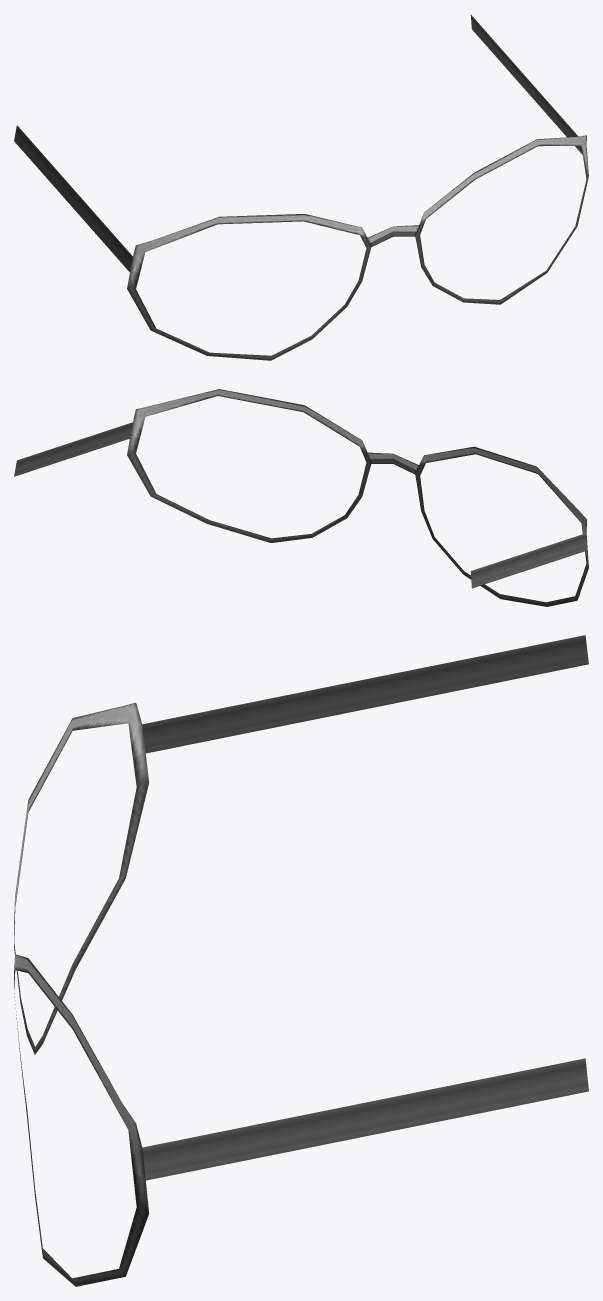
The model's file is acc_face0016.fbx.
3 renders of one model, top to bottom at view 1: azimuth 30°, elevation 25°; view 2: azimuth 150°, elevation 25°; view 3: azimuth 270°, elevation 25°, orthographic. The views are drawn at different scales.
Visible parts, largest first — view 1: acc_face_m; view 2: acc_face_m; view 3: acc_face_m.
Part boxes in pixels (<box>): acc_face_m: <box>14,14,588,360</box>; acc_face_m: <box>14,389,588,606</box>; acc_face_m: <box>14,635,588,1286</box>.
Bounding box in the file's own units: 0.1987 × 0.0655 × 0.1121.
